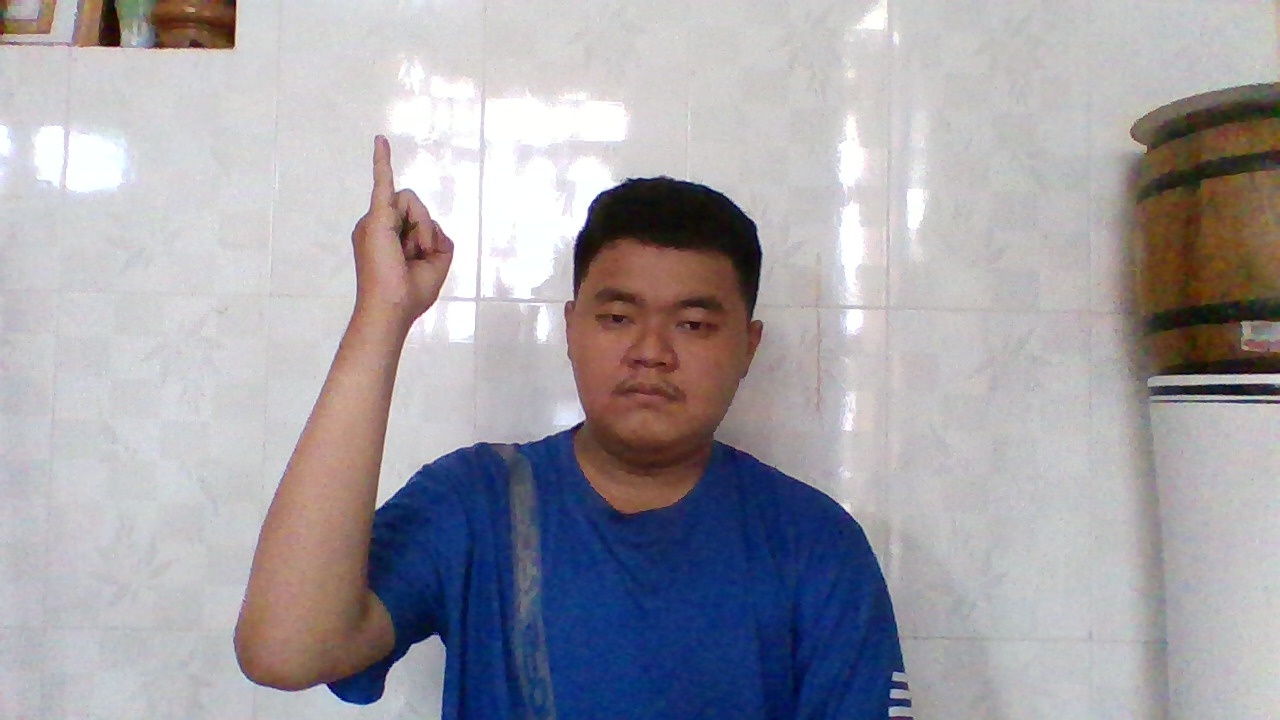I: (359, 125, 464, 327)
